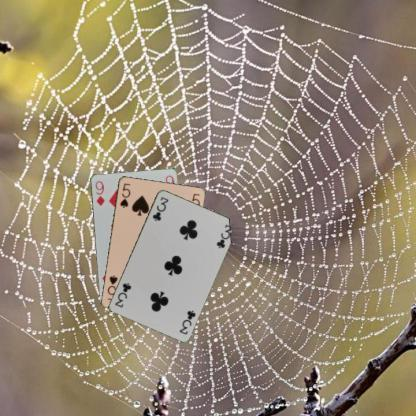3c: (176, 307, 197, 336), (150, 194, 170, 223)
5s: (117, 180, 132, 209)
9d: (92, 178, 106, 207)
